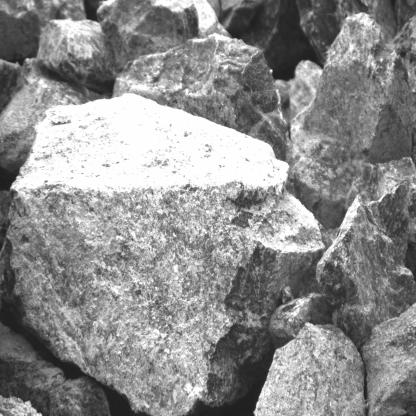stone: (0, 92, 333, 416), (287, 13, 416, 238), (112, 33, 290, 163), (316, 193, 416, 348), (253, 322, 366, 416), (37, 18, 118, 94)
